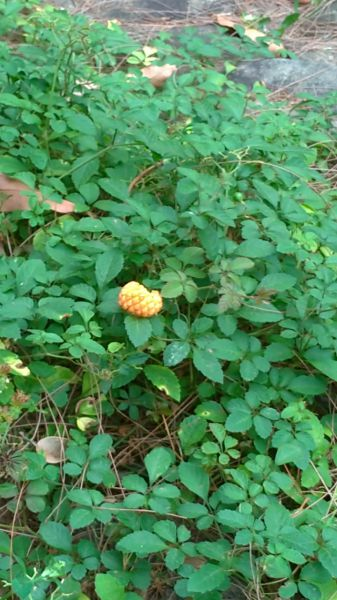eggs: (120, 277, 163, 320)
